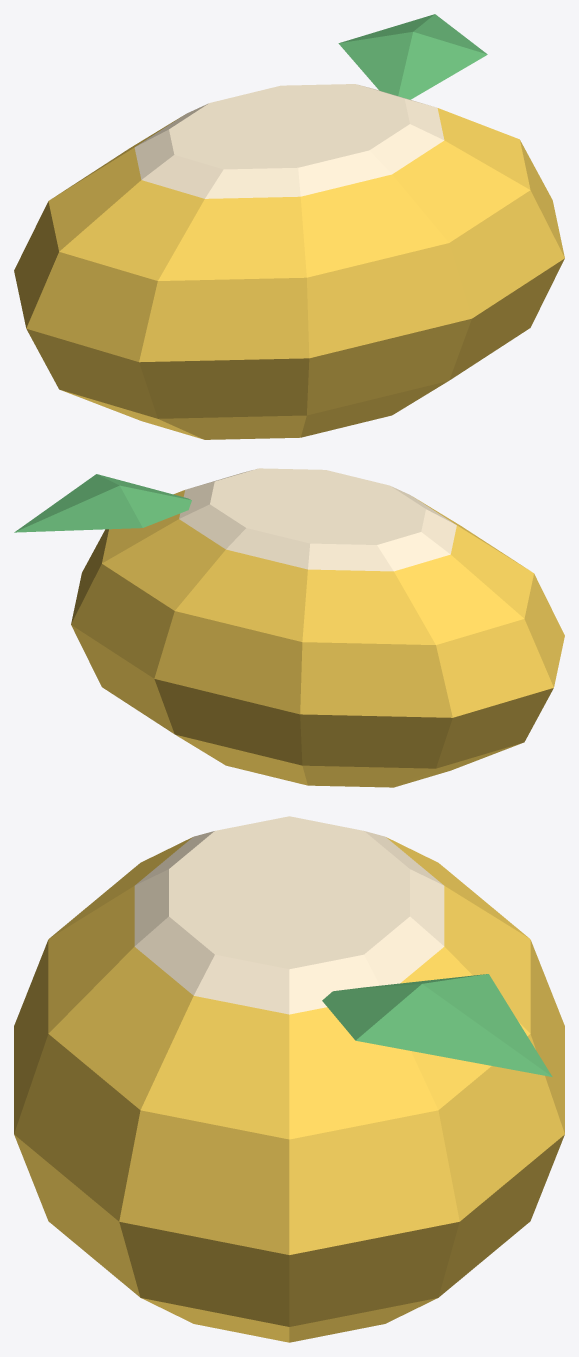
The model's file is SNACK_LEMON_DROP.fbx.
3 views of the same model, one above another, from view 1: azimuth 30°, elevation 25°; view 2: azimuth 150°, elevation 25°; view 3: azimuth 270°, elevation 25° (orthographic). The views are drawn at different scales.
Visible parts, largest first — view 1: SNACK_LEMON_DROP; view 2: SNACK_LEMON_DROP; view 3: SNACK_LEMON_DROP.
Part boxes in pixels (box(x1,y1,x2,y2)): SNACK_LEMON_DROP: box(14, 14, 564, 439); SNACK_LEMON_DROP: box(14, 468, 564, 787); SNACK_LEMON_DROP: box(14, 816, 564, 1342).
Size of the model in its own units: 3.2 by 1.6 by 2.13.
